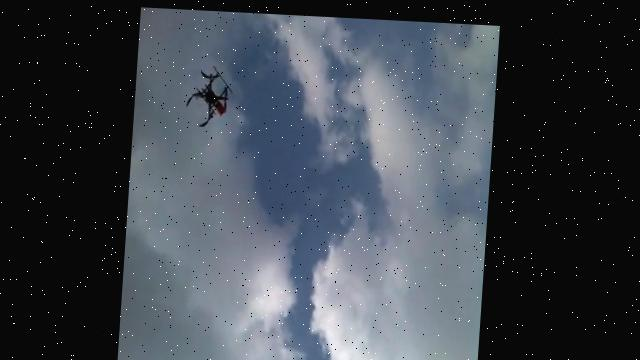drone: (182, 61, 233, 128)
